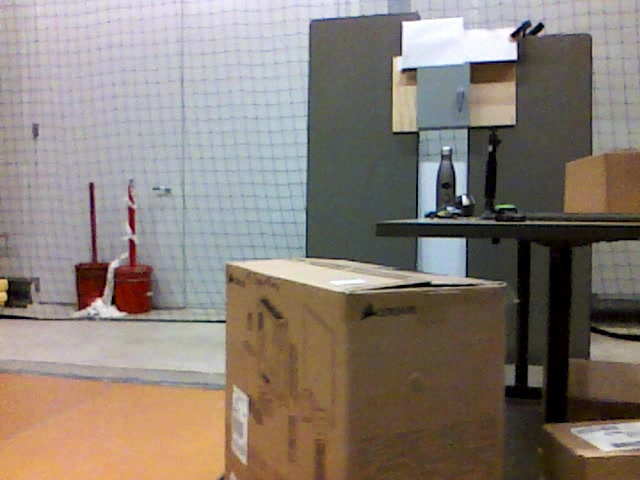box: (226, 259, 505, 480), (543, 421, 640, 480), (564, 150, 640, 212), (568, 358, 640, 418)
